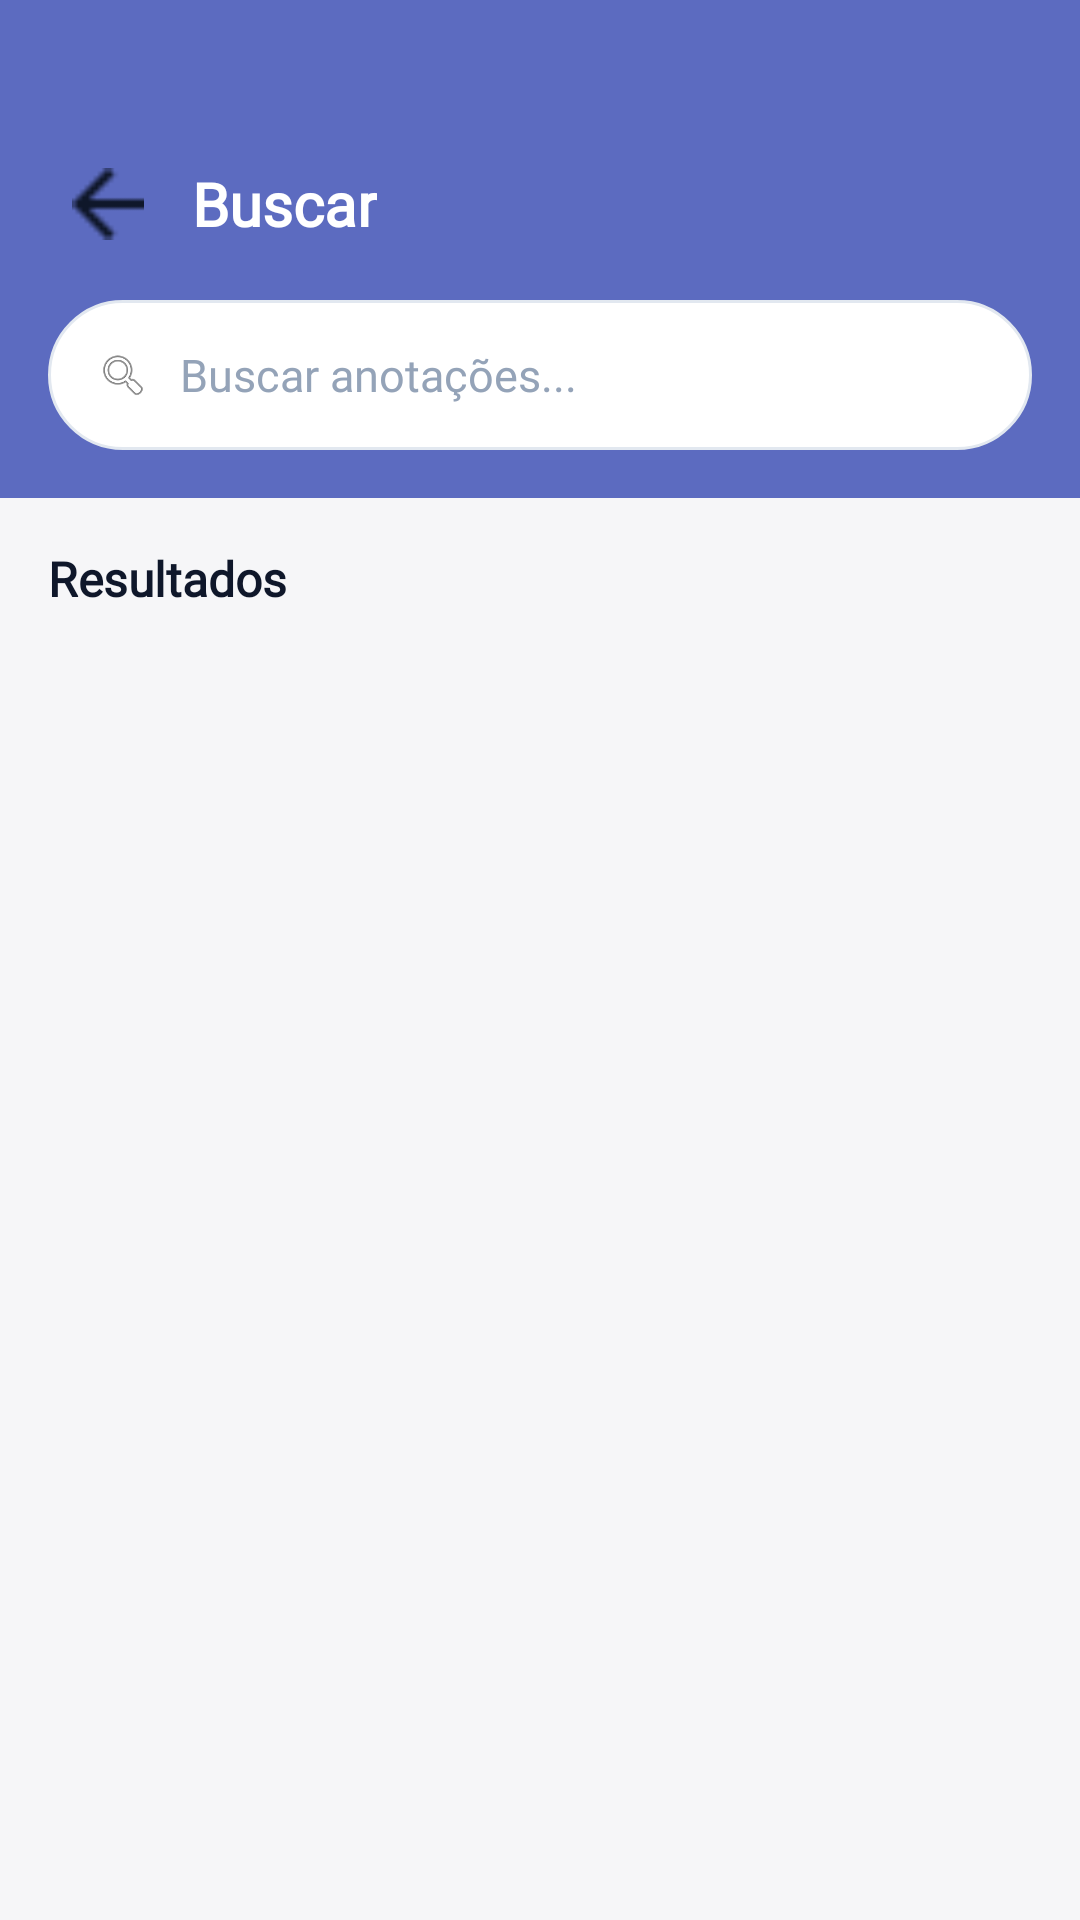

Where to tap for icons on this 1080×1920 app screen, as point (x, y):
Voltar: point (108, 204)
